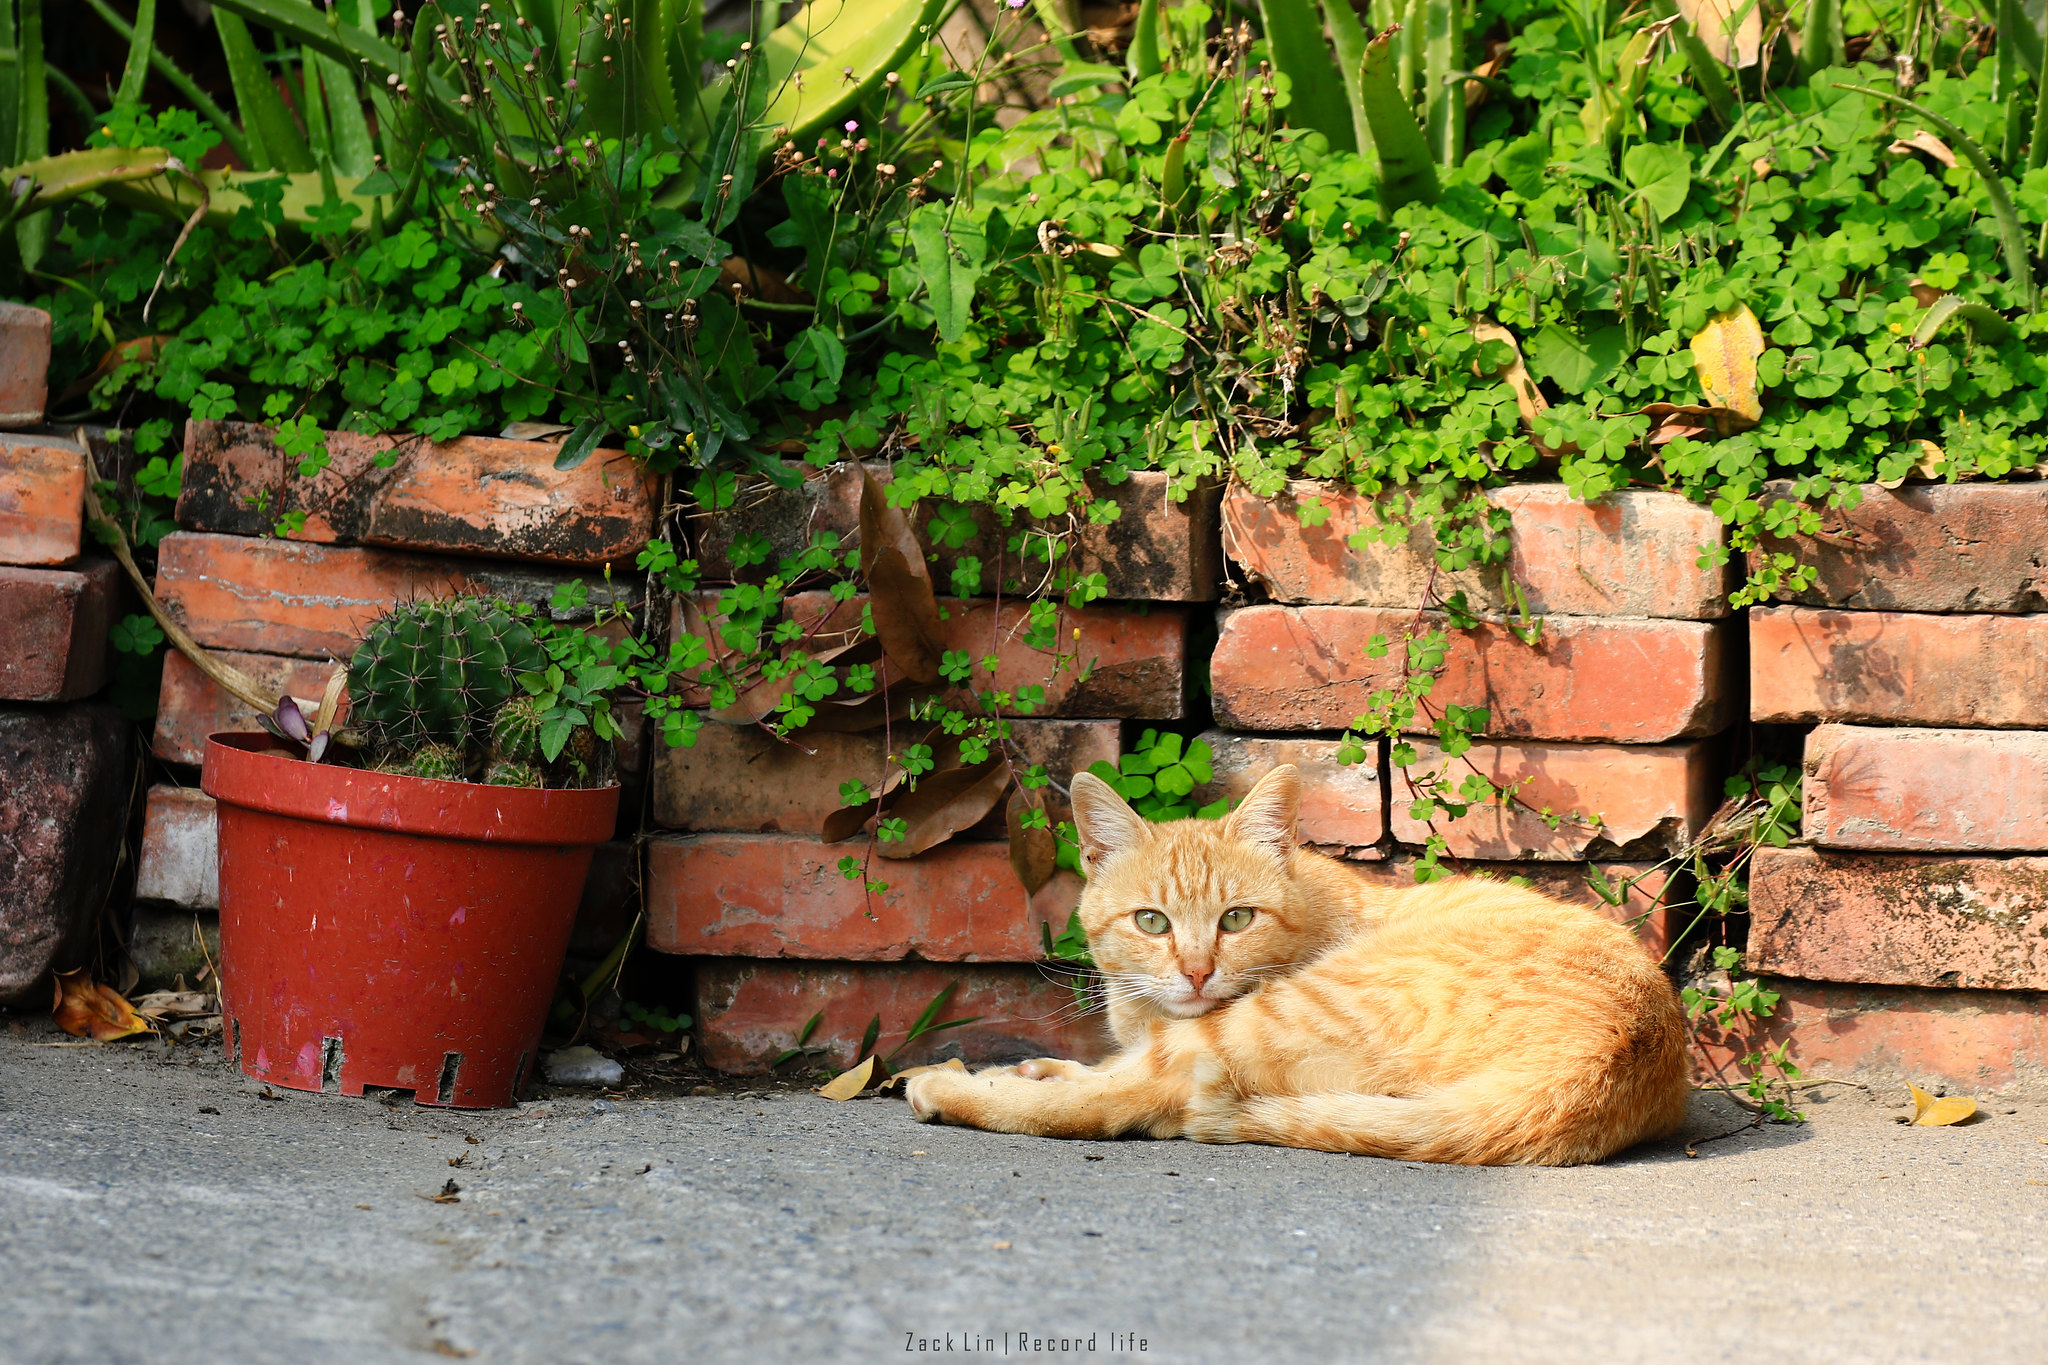cat: (943, 756, 1713, 1188)
potted plant: (204, 580, 633, 1124)
